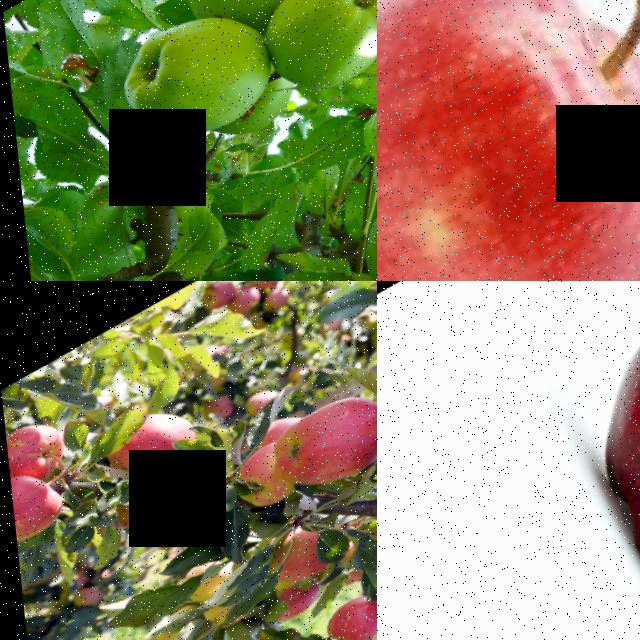apple: (377, 0, 640, 281), (507, 281, 640, 640), (86, 0, 320, 185), (247, 379, 377, 515), (236, 0, 377, 125), (99, 389, 215, 488), (4, 450, 76, 562), (191, 0, 342, 45), (0, 401, 73, 484), (292, 580, 377, 640), (111, 492, 171, 539), (218, 281, 270, 328), (193, 281, 241, 325), (235, 386, 284, 425), (190, 395, 230, 431), (259, 288, 297, 323), (246, 281, 294, 303), (346, 281, 377, 302)
